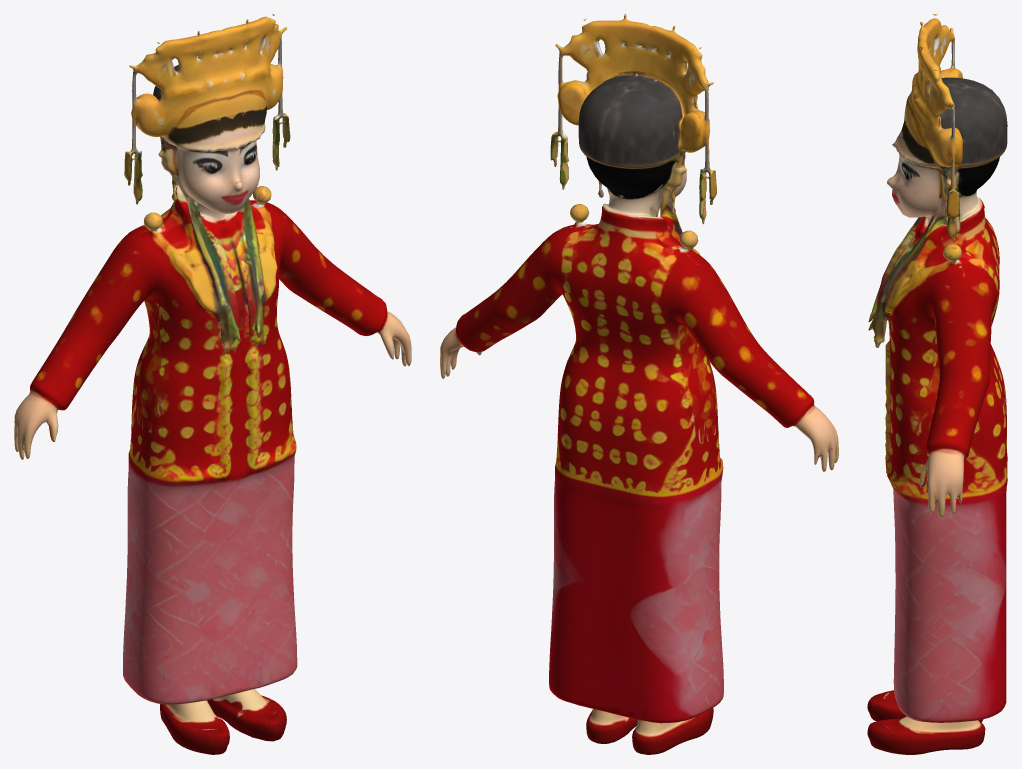
Rendered from busana-bengkulu.glb.
3 views of the same model, side by side, from view 1: azimuth 30°, elevation 25°; view 2: azimuth 150°, elevation 25°; view 3: azimuth 270°, elevation 25° (orthographic).
Parts seen in each view (by area): view 1: Object_2; view 2: Object_2; view 3: Object_2.
Boxes of the visible parts, left/top/right/bottom form: Object_2: left=14, top=14, right=411, bottom=754; Object_2: left=440, top=14, right=838, bottom=754; Object_2: left=867, top=14, right=1007, bottom=754.
Bounding box in the file's own units: 1.1 × 1.9 × 0.3457.
1 material, 1 textured.
